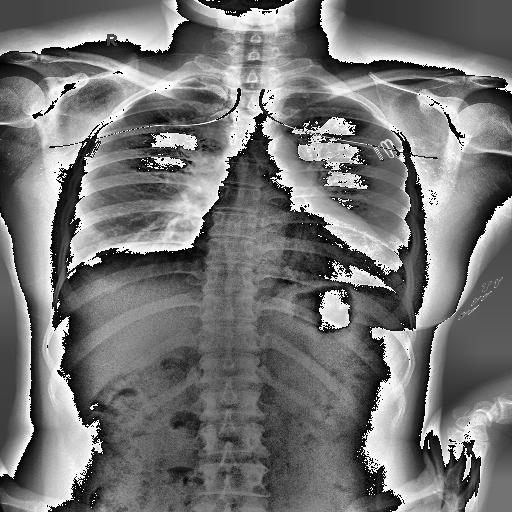3- Cardiomegaly: (192, 198, 386, 282), (197, 200, 388, 279), (191, 206, 386, 264)
